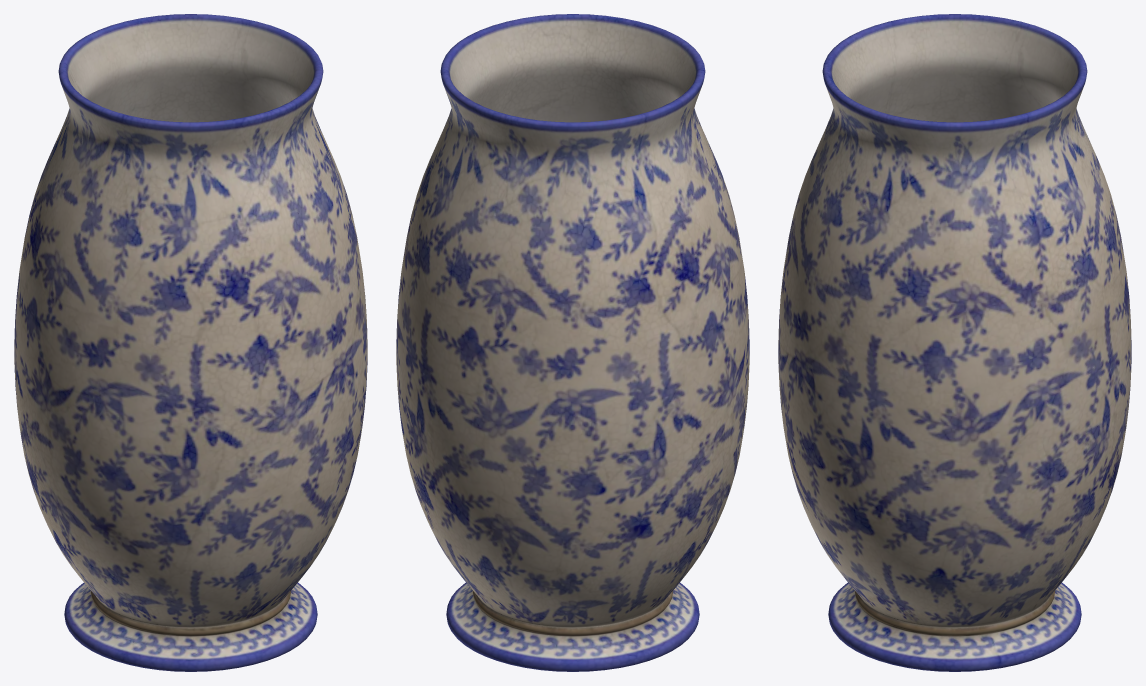
Rendered from vase-v1.glb.
3 views of the same model, side by side, from view 1: azimuth 30°, elevation 25°; view 2: azimuth 150°, elevation 25°; view 3: azimuth 270°, elevation 25° (orthographic).
Parts seen in each view (by area): view 1: antique_ceramic_vase_01; view 2: antique_ceramic_vase_01; view 3: antique_ceramic_vase_01.
Part boxes in pixels (<box>): antique_ceramic_vase_01: <box>14,14,367,671</box>; antique_ceramic_vase_01: <box>396,14,749,671</box>; antique_ceramic_vase_01: <box>778,14,1131,671</box>.
Bounding box in the file's own units: 0.255 × 0.4396 × 0.255.
1 material, 1 textured.
